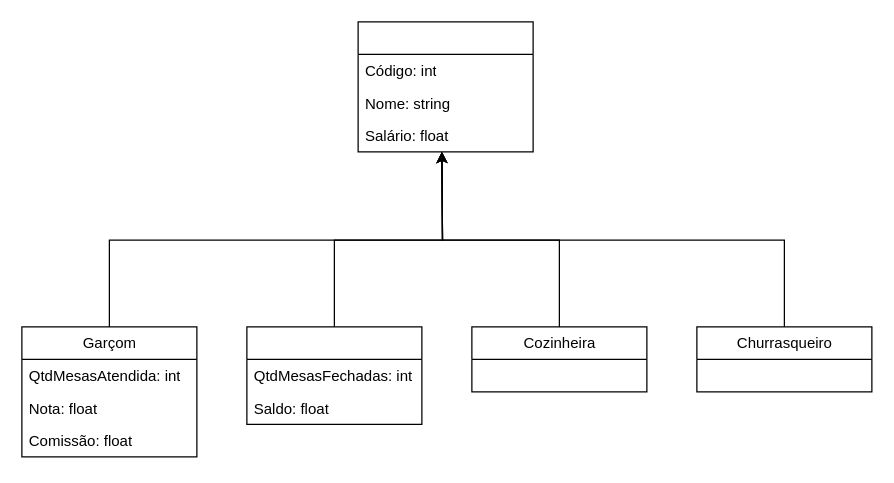
The diagram is 894 pixels wide and 483 high, and some of its shapes have lost their labels. Each missing label, with the box of its shape:
Funcionário: (357, 21, 533, 152)
Operador de Caixa: (246, 326, 422, 424)
